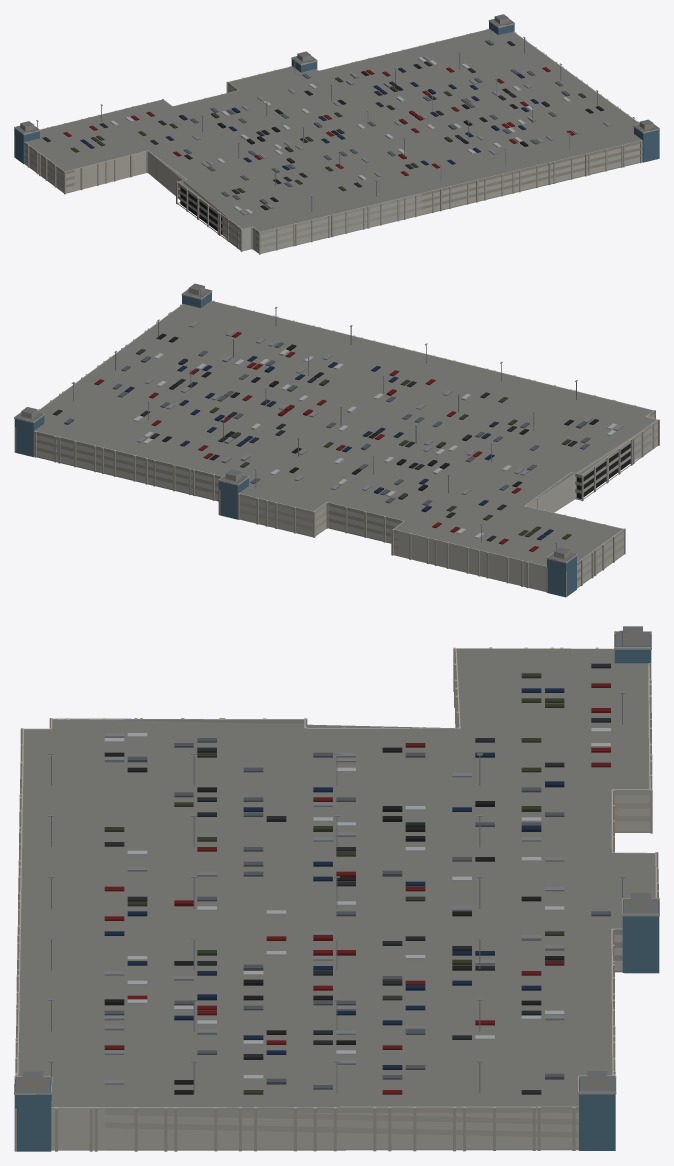
The model's file is atl-south-hourly-deck.glb.
3 views of the same model, one above another, from view 1: azimuth 30°, elevation 25°; view 2: azimuth 150°, elevation 25°; view 3: azimuth 270°, elevation 25° (orthographic). The views are drawn at different scales.
Visible parts, largest first — view 1: lod2_lm_stone, lod2_bld_wall, lod0_lm_metal, lod0_lm_stone, lod1_lm_stone, lod0_bld_glass, lod0_bld_roof, lod0_lm_dark; view 2: lod2_lm_stone, lod2_bld_wall, lod0_lm_metal, lod0_lm_stone, lod1_lm_stone, lod0_bld_glass, lod0_lm_dark, lod0_bld_roof; view 3: lod2_lm_stone, lod0_lm_metal, lod2_bld_wall, lod1_lm_stone, lod0_lm_stone, lod0_bld_glass, lod0_bld_roof.
Part boxes in pixels (box(x1,y1,x2,y2)): lod2_lm_stone: box(25, 29, 647, 231); lod2_bld_wall: box(24, 85, 642, 252); lod0_lm_metal: box(36, 37, 634, 215); lod0_lm_stone: box(14, 16, 659, 254); lod1_lm_stone: box(14, 19, 642, 251); lod0_bld_glass: box(14, 21, 659, 163); lod0_bld_roof: box(15, 14, 658, 133); lod0_lm_dark: box(180, 187, 217, 231); lod2_lm_stone: box(27, 301, 656, 565); lod2_bld_wall: box(34, 414, 657, 591); lod0_lm_metal: box(53, 288, 623, 551); lod0_lm_stone: box(14, 286, 657, 596); lod1_lm_stone: box(14, 289, 659, 586); lod0_bld_glass: box(14, 291, 576, 597); lod0_lm_dark: box(576, 444, 629, 499); lod0_bld_roof: box(15, 283, 576, 561); lod2_lm_stone: box(18, 648, 655, 1106); lod0_lm_metal: box(48, 630, 625, 1094); lod2_bld_wall: box(51, 648, 650, 1150); lod1_lm_stone: box(14, 647, 658, 1151); lod0_lm_stone: box(14, 631, 659, 1151); lod0_bld_glass: box(14, 634, 659, 1151); lod0_bld_roof: box(15, 626, 658, 1091).
Size of the model in its own units: 251 by 19.04 by 149.
